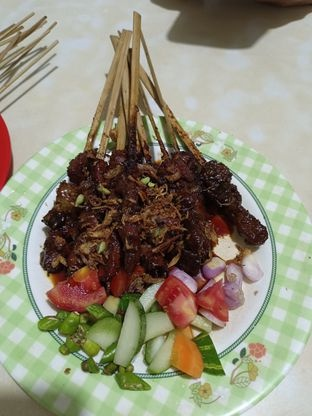sate_madura: (46, 18, 271, 273)
